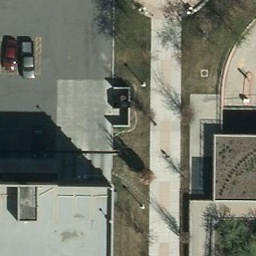car: (29, 126, 53, 160), (19, 42, 37, 77), (1, 37, 18, 72)
